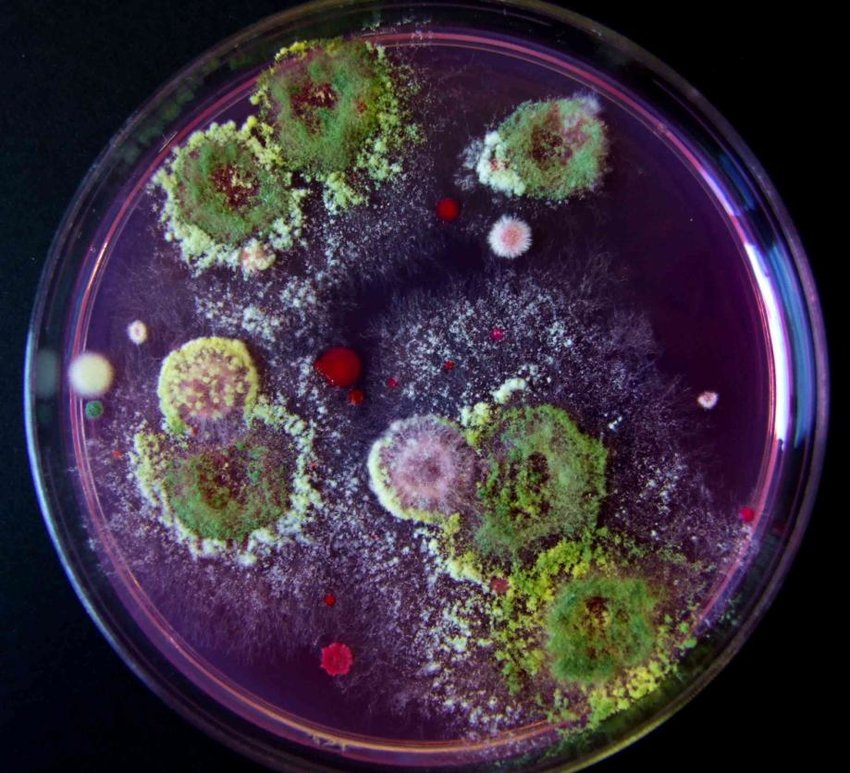Trichoderma: (373, 403, 602, 569), (162, 134, 309, 280), (456, 97, 605, 202), (67, 357, 117, 419), (490, 210, 534, 263)
